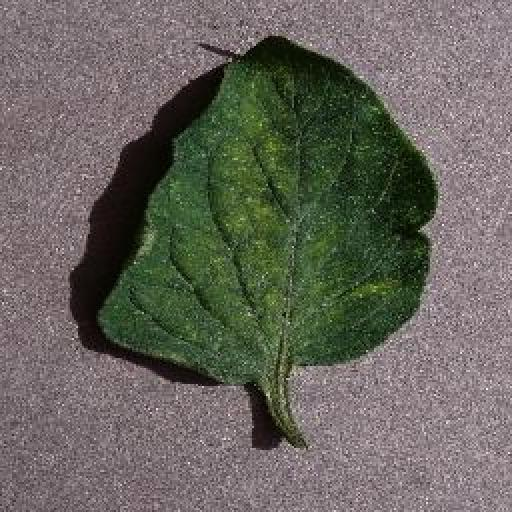disease_tomato: (94, 34, 438, 388)
